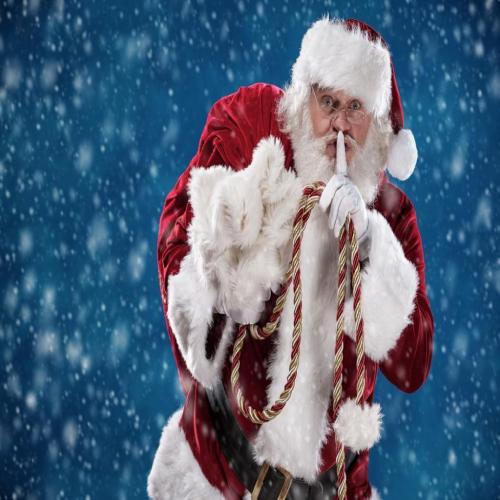Santa: (148, 16, 434, 500)
